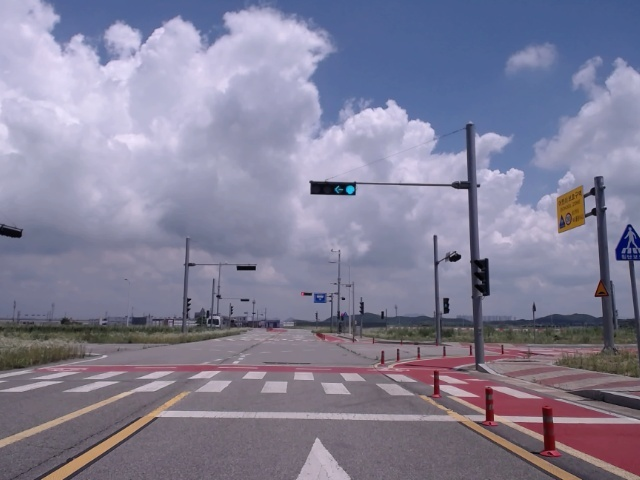all_green_4: (306, 178, 361, 197)
